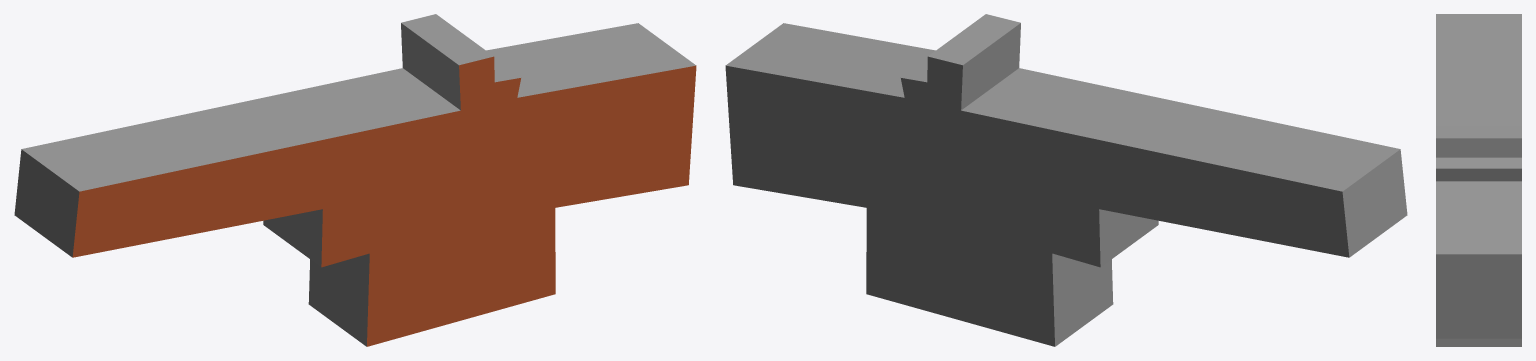
Rendered from construction_3126_assumed_A_Casa_h6m.obj.
The picture shows the model from 3 angles, left to right: view 1: azimuth 30°, elevation 25°; view 2: azimuth 150°, elevation 25°; view 3: azimuth 270°, elevation 25°; orthographic projection. The views are drawn at different scales.
Visible parts, largest first — view 1: construction_3126_assumed_A_Casa; view 2: construction_3126_assumed_A_Casa; view 3: construction_3126_assumed_A_Casa.
Boxes of the visible parts, box(x1,y1,x2,y2) form: construction_3126_assumed_A_Casa: box(14, 14, 696, 346); construction_3126_assumed_A_Casa: box(725, 14, 1407, 346); construction_3126_assumed_A_Casa: box(1436, 14, 1521, 346).
Bounding box in the file's own units: 37.19 × 14.77 × 6.
